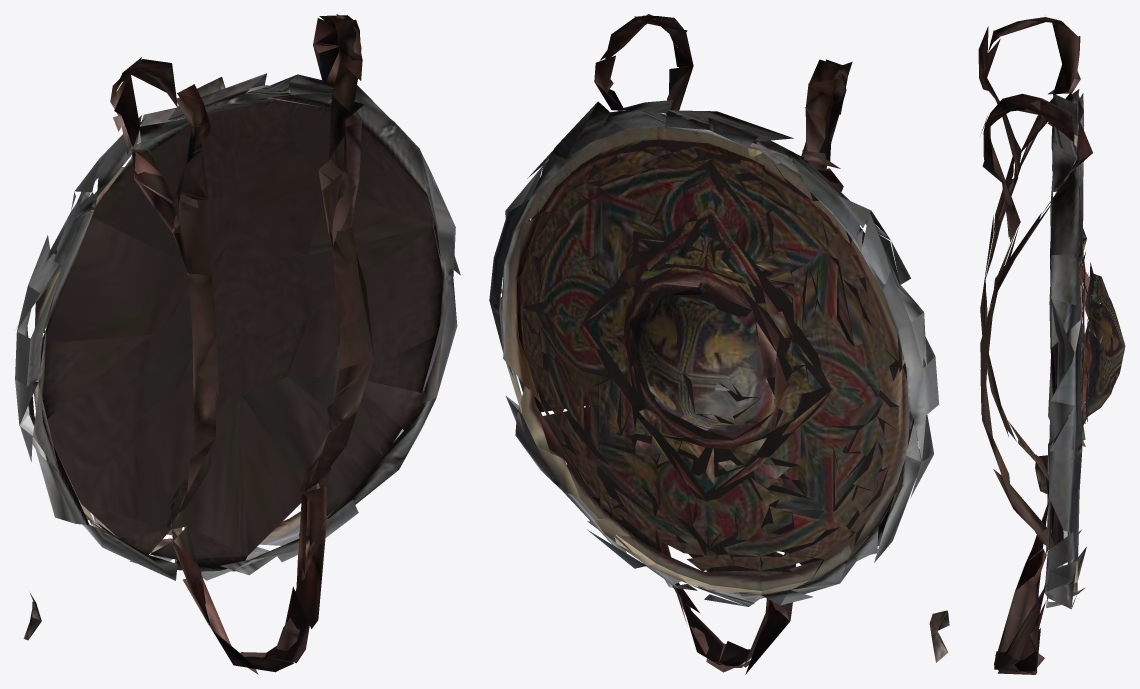
Rendered from qalqon_dumaloq2.glb.
The picture shows the model from 3 angles, left to right: view 1: azimuth 30°, elevation 25°; view 2: azimuth 150°, elevation 25°; view 3: azimuth 270°, elevation 25°; orthographic projection. The views are drawn at different scales.
Parts seen in each view (by area): view 1: qalqon_dumaloq2; view 2: qalqon_dumaloq2; view 3: qalqon_dumaloq2.
Boxes of the visible parts, box(x1,y1,x2,y2) form: qalqon_dumaloq2: box(15, 14, 460, 674); qalqon_dumaloq2: box(489, 14, 949, 674); qalqon_dumaloq2: box(978, 17, 1125, 674).
Bounding box in the file's own units: 0.4229 × 0.5798 × 0.1262.
Materials: 1 (1 with a texture image).
